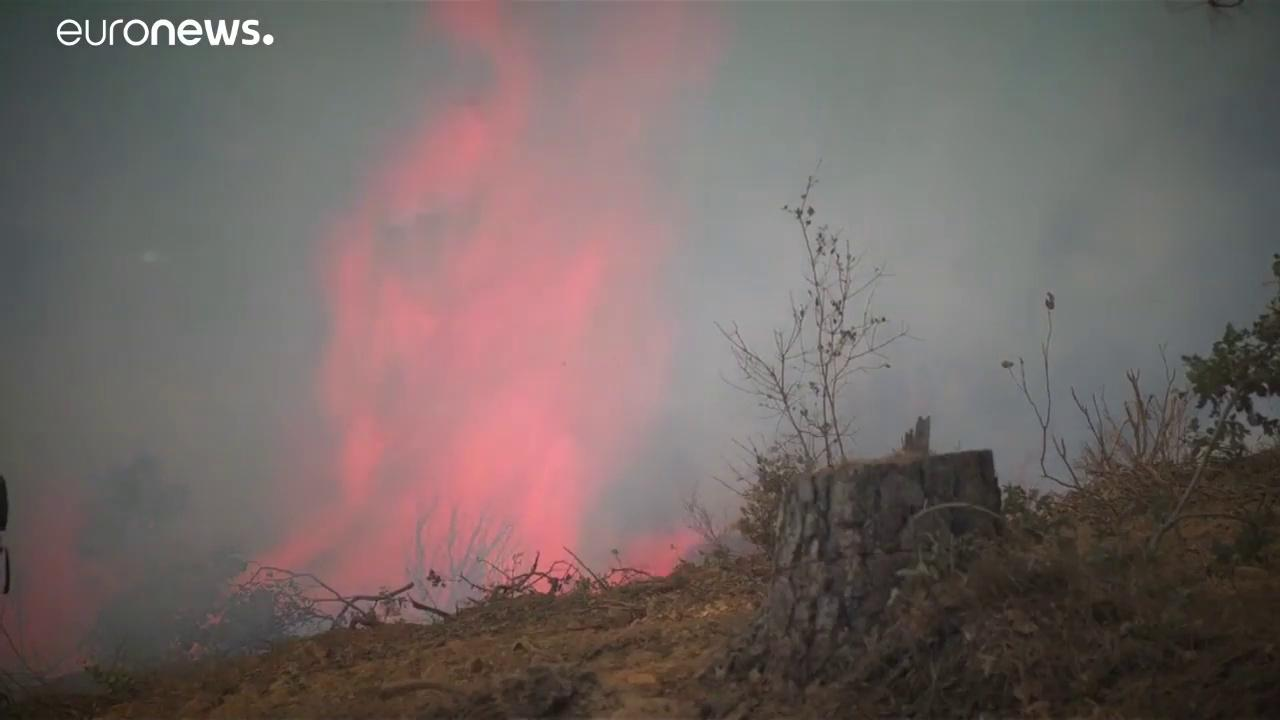fire: (338, 186, 568, 530)
